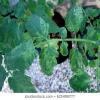Tomato leaf mosaic virus: (3, 39, 37, 73), (26, 13, 49, 43), (38, 44, 59, 76), (64, 4, 83, 36), (69, 71, 91, 91), (69, 48, 85, 75), (59, 41, 69, 58), (58, 27, 67, 39)
